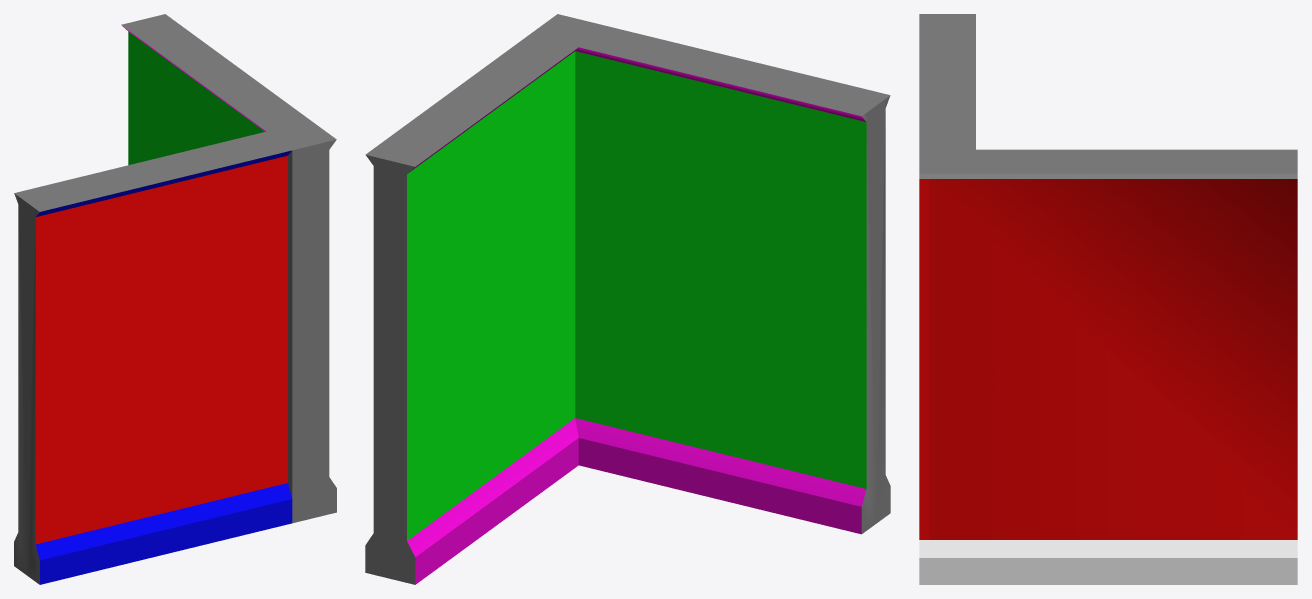
File: InnerFlatHalfEdged.FBX
The picture shows the model from 3 angles, left to right: view 1: azimuth 30°, elevation 25°; view 2: azimuth 150°, elevation 25°; view 3: azimuth 270°, elevation 25°; orthographic projection. The views are drawn at different scales.
Visible parts, largest first — view 1: ModularWallInnerFlat001; view 2: ModularWallInnerFlat001; view 3: ModularWallInnerFlat001.
Boxes of the visible parts, box(x1,y1,x2,y2) form: ModularWallInnerFlat001: box(14, 14, 336, 584); ModularWallInnerFlat001: box(365, 14, 890, 584); ModularWallInnerFlat001: box(919, 14, 1297, 584).
Size of the model in its own units: 100 by 120 by 100.
